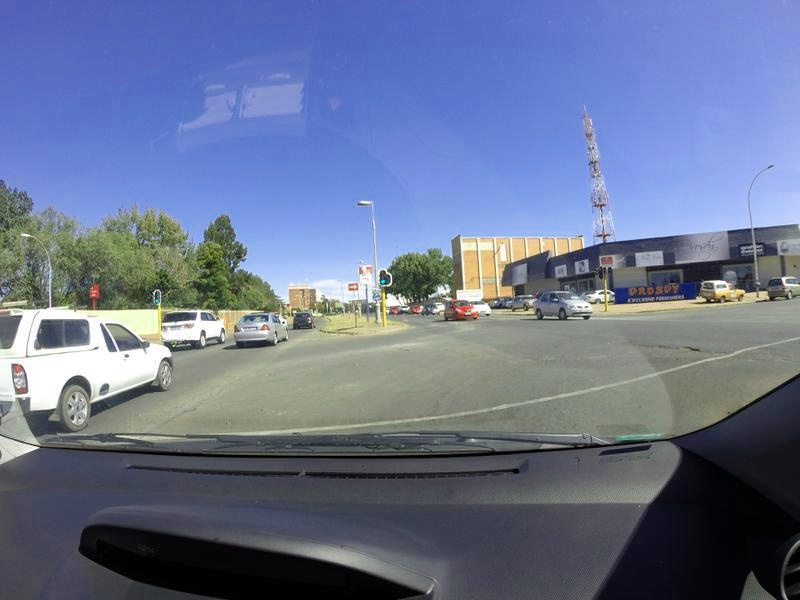pothole: (633, 335, 705, 357), (396, 344, 411, 353)
